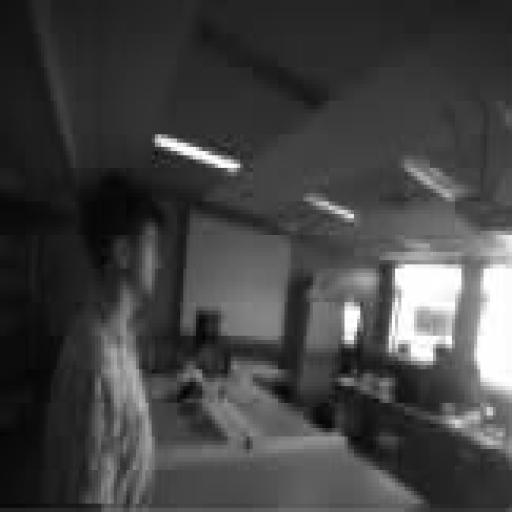human: (42, 173, 164, 507), (414, 338, 465, 398)
